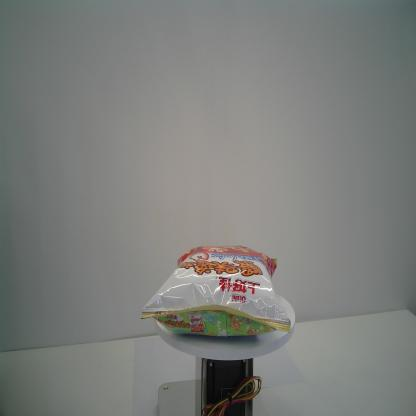Puffed Food: (141, 244, 291, 338)
